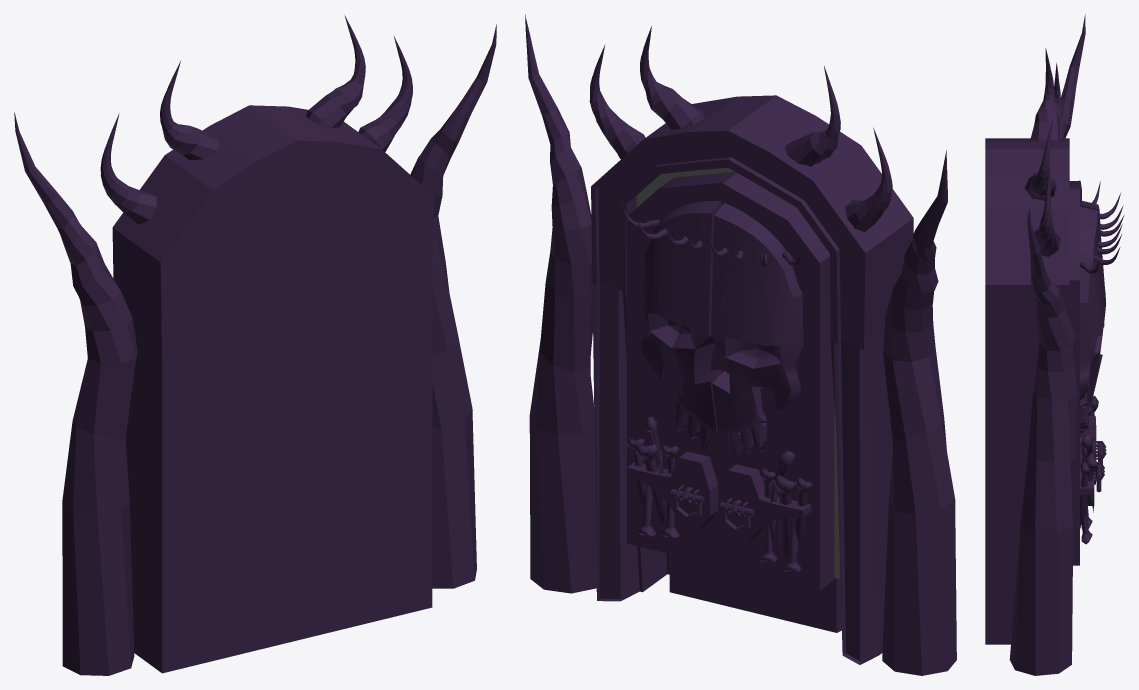
File: MESH_GATE.fbx
3 views of the same model, side by side, from view 1: azimuth 30°, elevation 25°; view 2: azimuth 150°, elevation 25°; view 3: azimuth 270°, elevation 25° (orthographic). The views are drawn at different scales.
Parts seen in each view (by area): view 1: Cadre; view 2: Cadre, Door_L, Door_R, pCube2; view 3: Cadre, Door_R, Door_L.
Part boxes in pixels (x1,y1,x2,y2): Cadre: (14,15,496,675); Cadre: (525,14,956,675); Door_L: (709,173,834,590); Door_R: (621,172,736,566); pCube2: (636,167,840,579); Cadre: (985,14,1085,675); Door_R: (1069,189,1122,565); Door_L: (1069,180,1124,484).
Size of the model in its own units: 0.1128 by 0.1381 by 0.0345.
